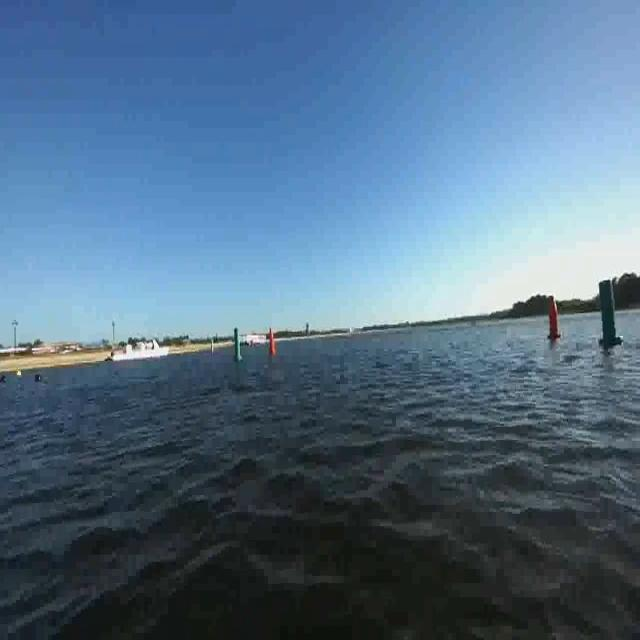green-column-buoy: (596, 276, 622, 347), (232, 326, 244, 363)
red-column-buoy: (547, 295, 562, 342), (268, 328, 278, 358)
